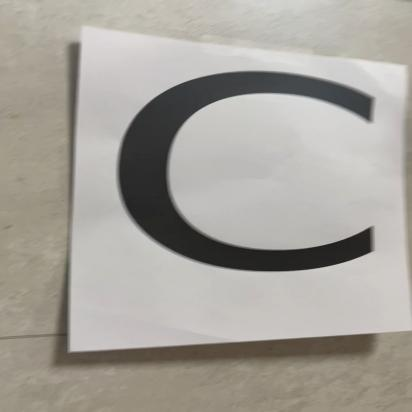seat: (43, 17, 412, 384)
